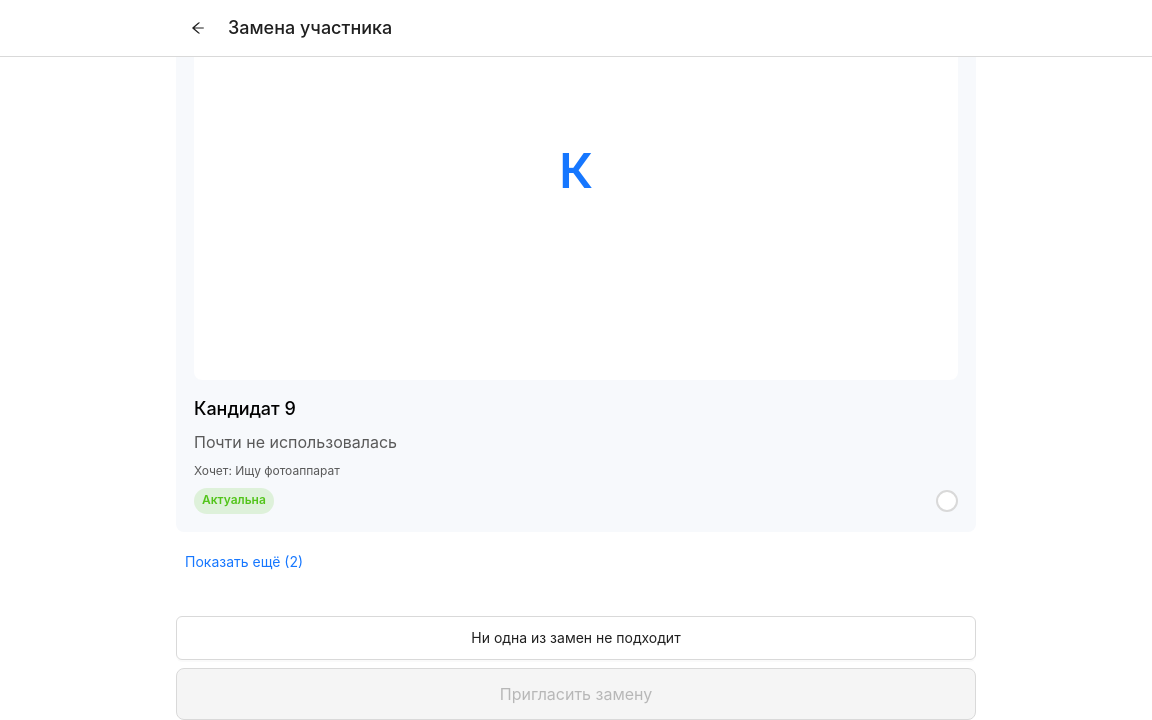
Test case: ChainReplacementPage › renders the first page of candidates and loads the rest on demand
The image size is (1152, 720).
(page scrolled)
Click the button "Показать ещё (2)": (244, 562) x1=176 y1=540 x2=312 y2=584
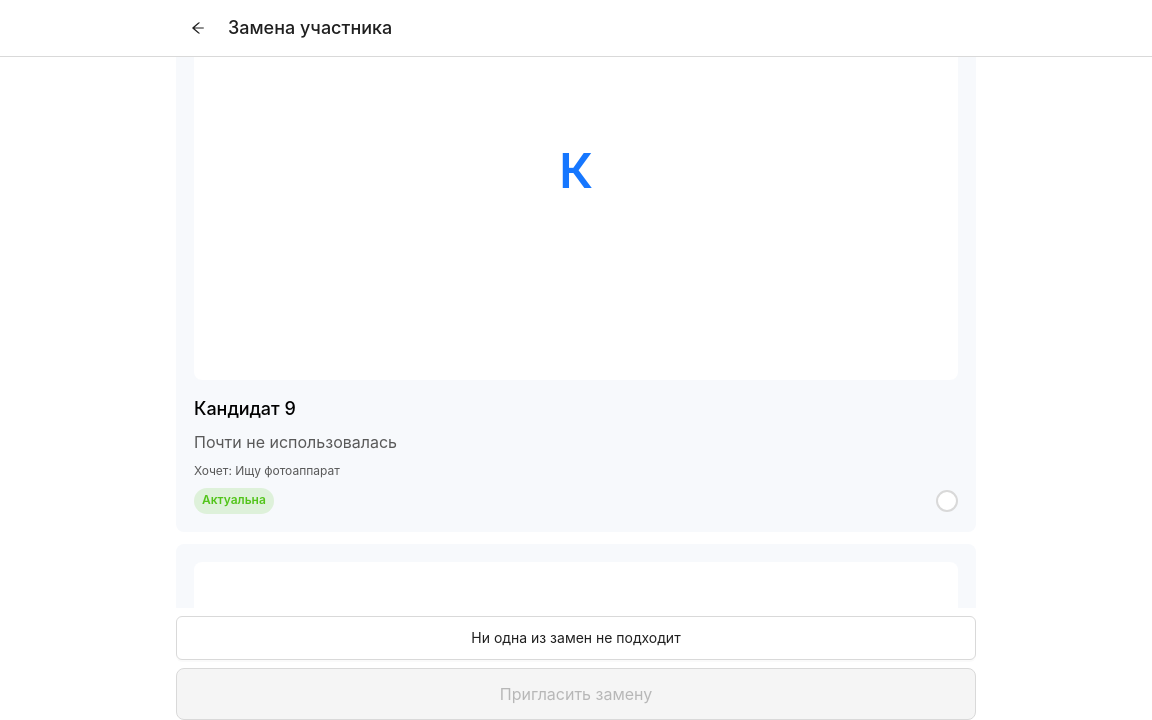
Expected: the button "Показать ещё" is gone
